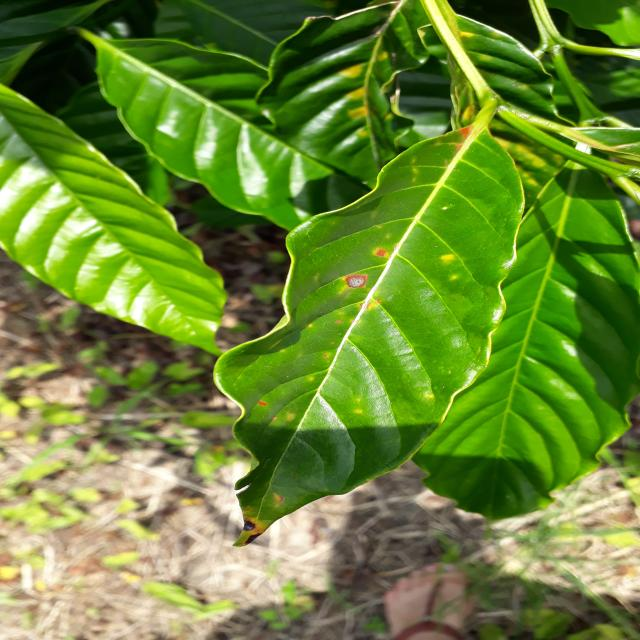Plaga-AranaRoja: (213, 119, 524, 537)
